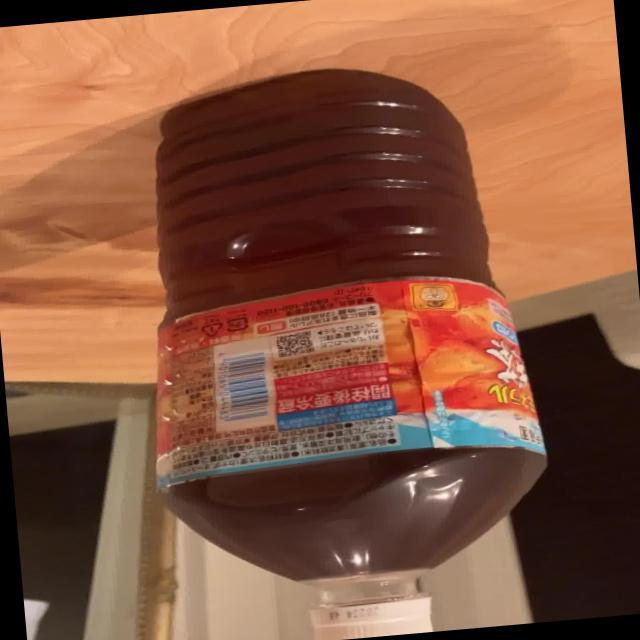good: (114, 49, 562, 640)
